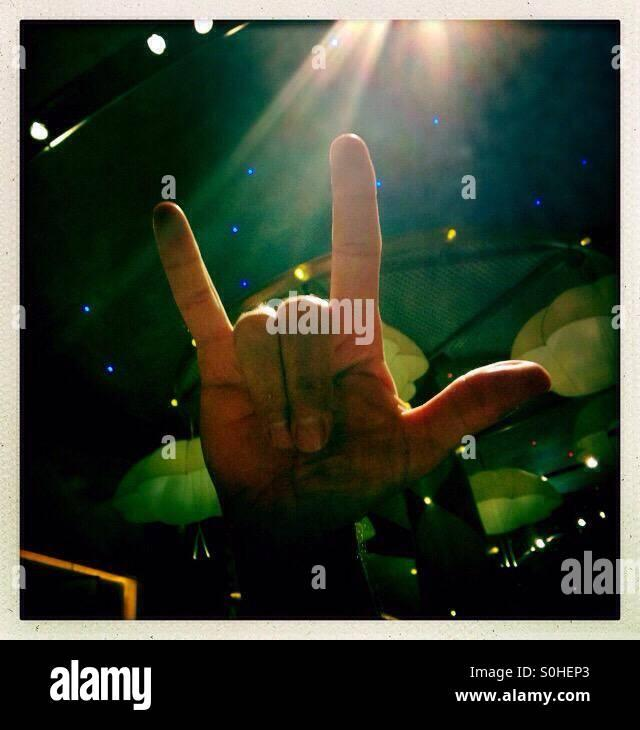Love_you: (135, 120, 553, 564)
